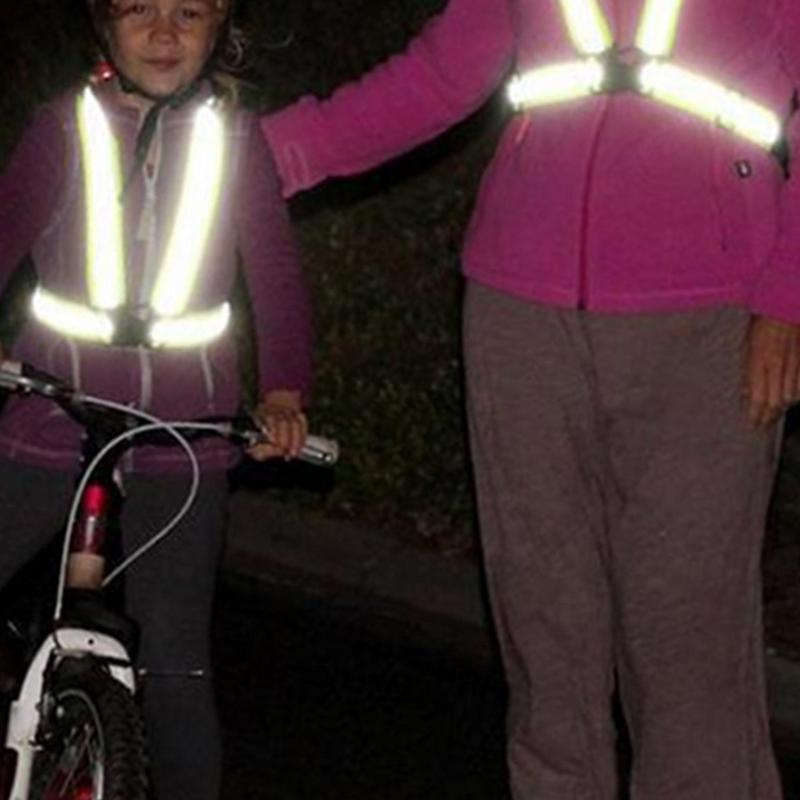Vest: (29, 89, 250, 348)
